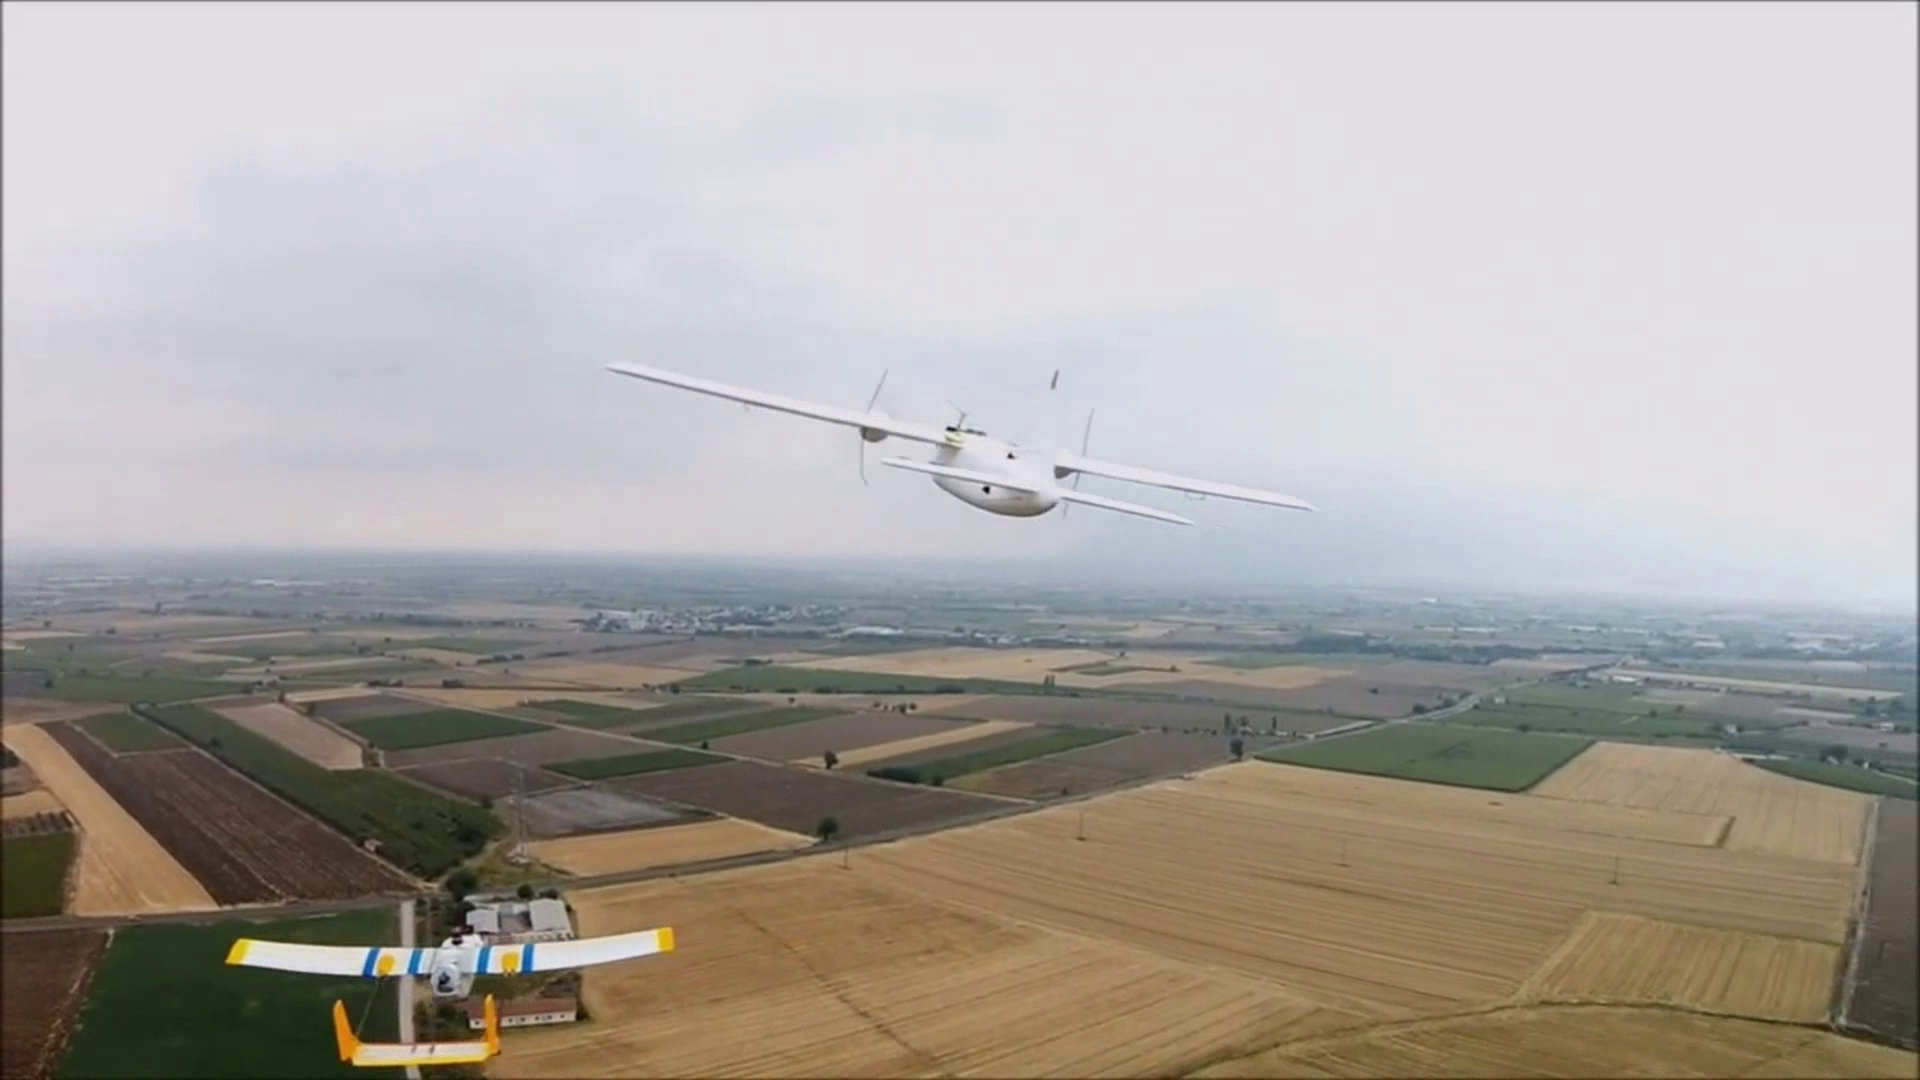airplane: (607, 360, 1316, 527)
